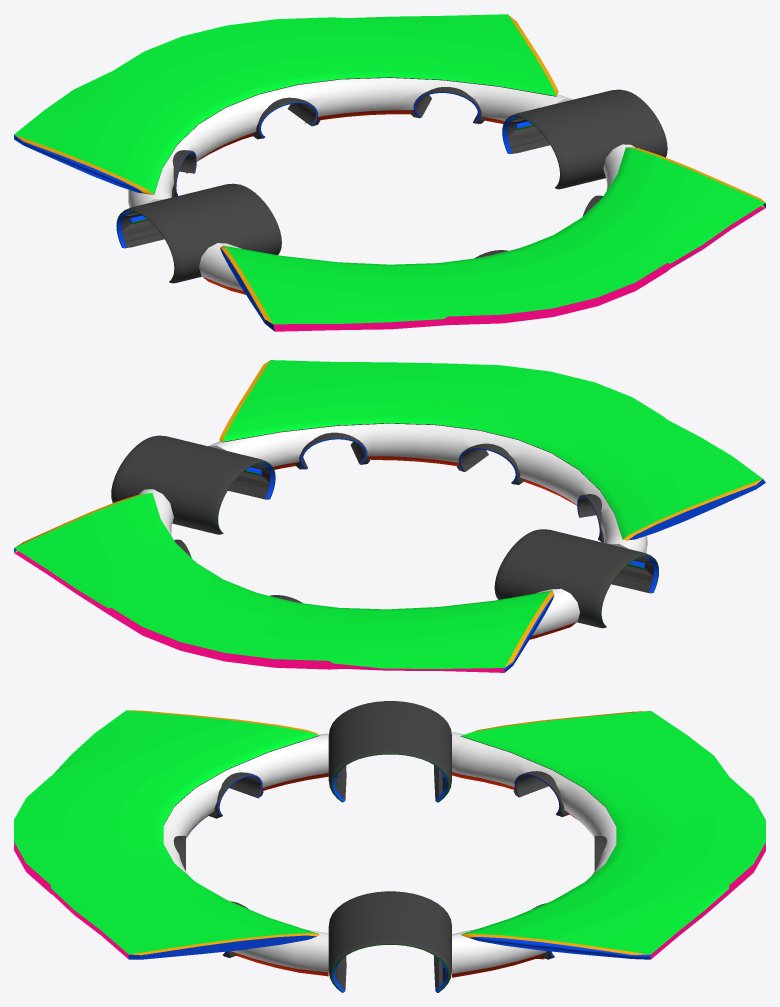
The model's file is Progeny New LL Curved Walls.FBX.
3 views of the same model, one above another, from view 1: azimuth 30°, elevation 25°; view 2: azimuth 150°, elevation 25°; view 3: azimuth 270°, elevation 25° (orthographic).
Visible parts, largest first — view 1: Torus003, Torus004, Torus002, Tube013, Tube015, Tube030, Tube032, Tube035; view 2: Torus003, Torus004, Torus002, Tube013, Tube015, Tube031, Tube034, Tube033; view 3: Torus003, Torus004, Torus002, Tube013, Tube015, Tube033, Tube035.
Boxes of the visible parts, bbox=[...] form: Torus003: bbox=[220, 147, 765, 331]; Torus004: bbox=[14, 14, 558, 194]; Torus002: bbox=[128, 78, 635, 294]; Tube013: bbox=[502, 89, 667, 189]; Tube015: bbox=[116, 183, 281, 283]; Tube030: bbox=[252, 97, 319, 139]; Tube032: bbox=[411, 87, 485, 123]; Tube035: bbox=[172, 150, 196, 197]; Torus003: bbox=[219, 360, 765, 540]; Torus004: bbox=[14, 493, 554, 672]; Torus002: bbox=[138, 423, 647, 639]; Tube013: bbox=[111, 435, 275, 534]; Tube015: bbox=[494, 529, 658, 628]; Tube031: bbox=[457, 443, 524, 484]; Tube034: bbox=[295, 432, 370, 469]; Tube033: bbox=[577, 494, 604, 542]; Torus003: bbox=[14, 710, 319, 959]; Torus004: bbox=[460, 711, 765, 959]; Torus002: bbox=[163, 732, 616, 977]; Tube013: bbox=[328, 891, 451, 992]; Tube015: bbox=[328, 701, 451, 802]; Tube033: bbox=[209, 772, 263, 818]; Tube035: bbox=[513, 771, 569, 816].
Bounding box in the file's own units: 93.36 × 9.65 × 121.
